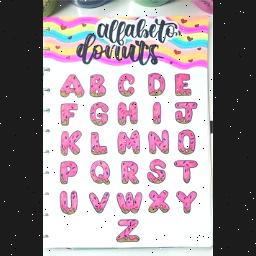a: (61, 72, 85, 100)
b: (86, 72, 110, 100)
c: (115, 68, 141, 102)
d: (144, 72, 168, 98)
e: (171, 70, 197, 98)
f: (56, 101, 82, 127)
g: (89, 99, 113, 127)
h: (116, 100, 146, 124)
i: (150, 102, 170, 128)
j: (174, 100, 202, 128)
k: (59, 129, 83, 157)
l: (88, 132, 112, 158)
m: (118, 130, 144, 154)
n: (146, 128, 176, 160)
o: (176, 126, 198, 158)
p: (56, 162, 82, 186)
q: (88, 156, 114, 186)
r: (118, 161, 144, 187)
s: (147, 158, 173, 186)
t: (174, 158, 202, 186)
u: (59, 187, 81, 219)
v: (89, 190, 115, 214)
w: (113, 190, 143, 212)
x: (146, 190, 174, 218)
y: (176, 188, 198, 216)
z: (118, 216, 144, 246)
